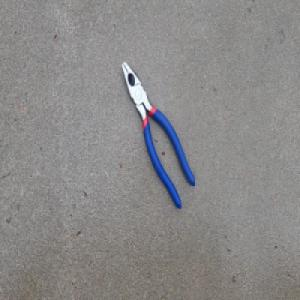Pliers: (118, 62, 194, 212)
